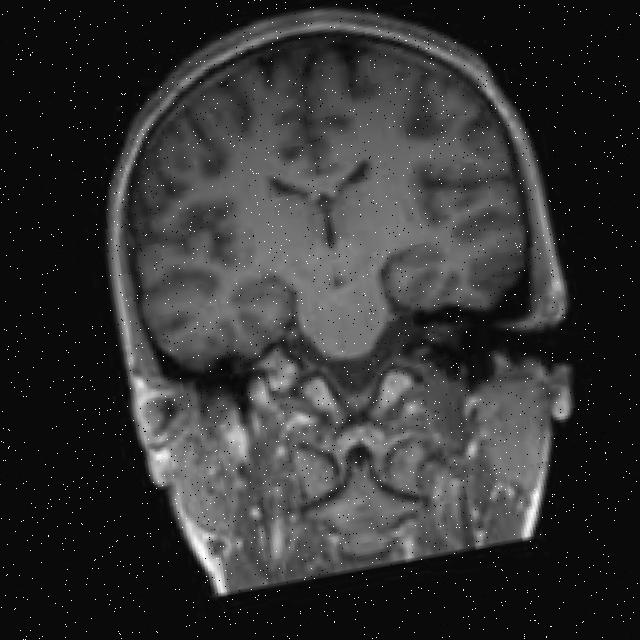NoTumor: (89, 0, 555, 401)
